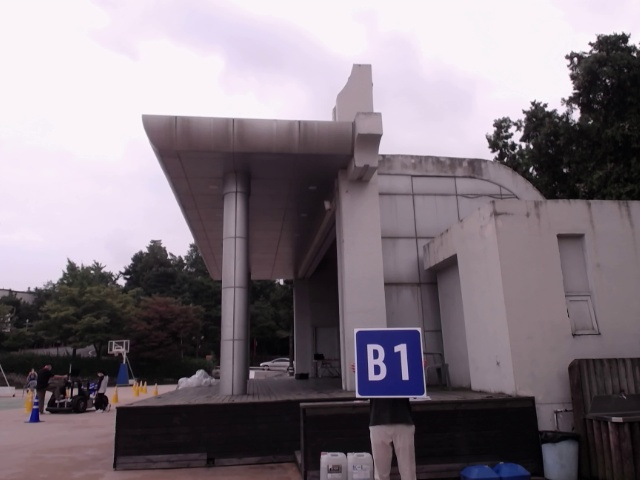delivery_b1: (354, 328, 426, 397)
